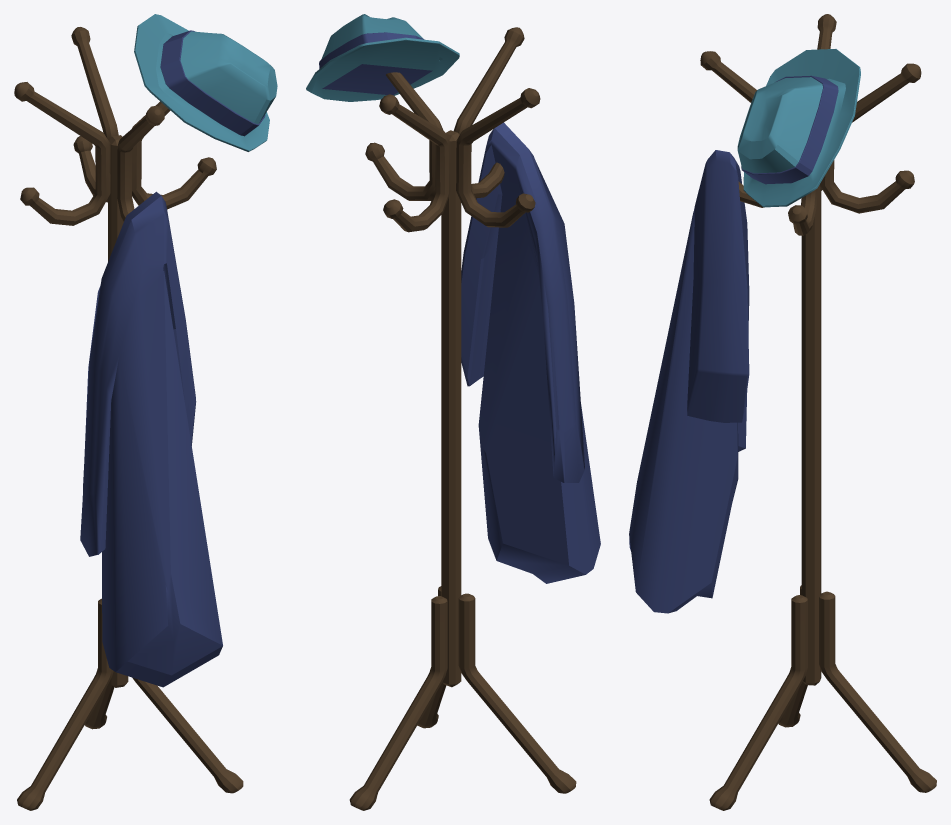
The model's file is Clothes_Hanger_With_Clothes.fbx.
3 renders of one model, left to right at view 1: azimuth 30°, elevation 25°; view 2: azimuth 150°, elevation 25°; view 3: azimuth 270°, elevation 25°, orthographic.
Parts seen in each view (by area): view 1: clothes_hanger_with_clothes; view 2: clothes_hanger_with_clothes; view 3: clothes_hanger_with_clothes.
Boxes of the visible parts, left/top/right/bottom form: clothes_hanger_with_clothes: left=14, top=14, right=277, bottom=810; clothes_hanger_with_clothes: left=306, top=14, right=600, bottom=810; clothes_hanger_with_clothes: left=629, top=14, right=936, bottom=810.
Size of the model in its own units: 0.6994 by 1.94 by 0.7295.
